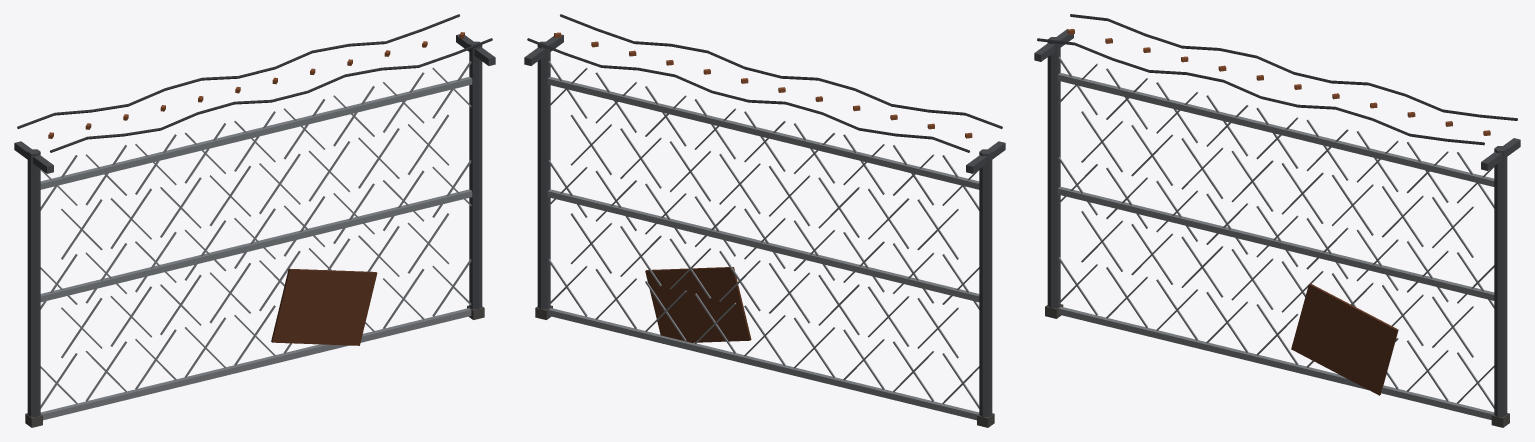
Rendered from lmk_fence_segment.fbx.
3 views of the same model, side by side, from view 1: azimuth 30°, elevation 25°; view 2: azimuth 150°, elevation 25°; view 3: azimuth 330°, elevation 25° (orthographic).
Parts seen in each view (by area): view 1: lmk_fence_segment; view 2: lmk_fence_segment; view 3: lmk_fence_segment.
Boxes of the visible parts, x1,y1,x2,y2 form: lmk_fence_segment: (14,14,495,427); lmk_fence_segment: (524,14,1005,427); lmk_fence_segment: (1034,14,1520,427).
Bounding box in the file's own units: 4 × 2.45 × 0.524.
